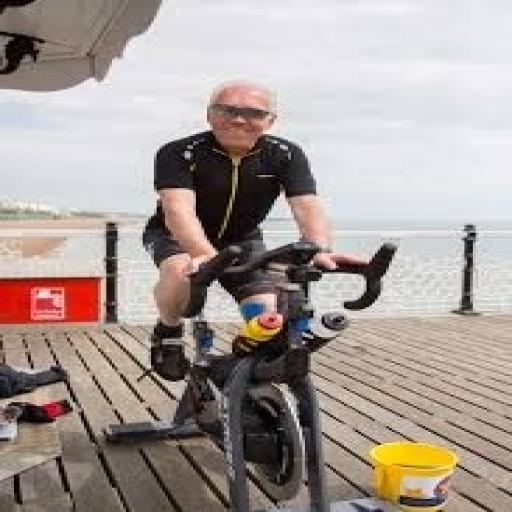cycling: (140, 78, 341, 382)
